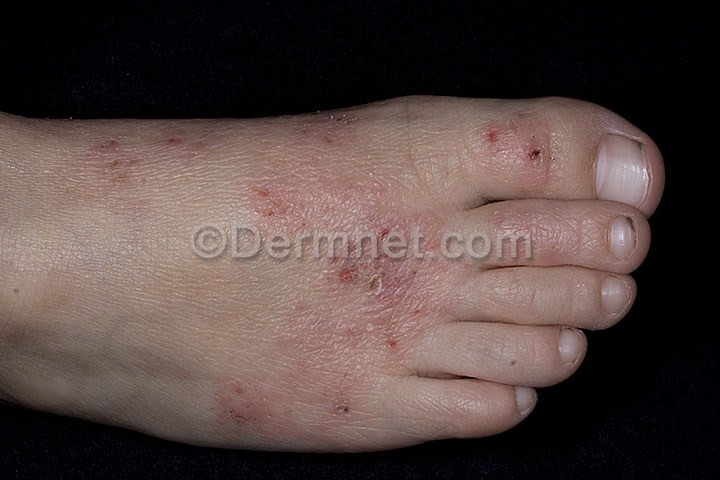Eczema: (57, 95, 574, 437)
